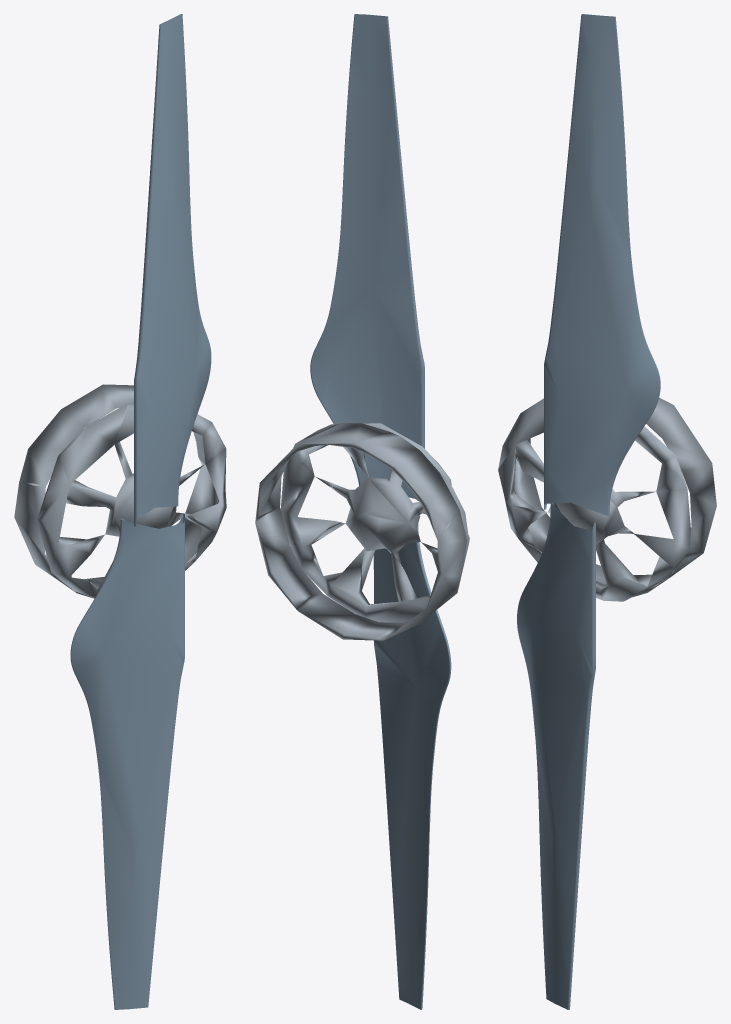
The model's file is px4-x500-rotor-1.glb.
3 renders of one model, left to right at view 1: azimuth 30°, elevation 25°; view 2: azimuth 150°, elevation 25°; view 3: azimuth 330°, elevation 25°, orthographic.
Visible parts, largest first — view 1: rotor_1_visual-0, rotor_1_visual_motor_top-1, rotor_1_visual_motor_top-0; view 2: rotor_1_visual-0, rotor_1_visual_motor_top-0, rotor_1_visual_motor_top-1; view 3: rotor_1_visual-0, rotor_1_visual_motor_top-1, rotor_1_visual_motor_top-0.
Boxes of the visible parts, x1,y1,x2,y2 form: rotor_1_visual-0: [70, 14, 211, 1009]; rotor_1_visual_motor_top-1: [37, 402, 226, 597]; rotor_1_visual_motor_top-0: [14, 384, 218, 598]; rotor_1_visual-0: [310, 14, 451, 1009]; rotor_1_visual_motor_top-0: [255, 423, 466, 640]; rotor_1_visual_motor_top-1: [280, 423, 469, 622]; rotor_1_visual-0: [517, 14, 660, 1009]; rotor_1_visual_motor_top-1: [498, 398, 690, 601]; rotor_1_visual_motor_top-0: [514, 397, 716, 596].
Size of the model in its own units: 0.0593 by 0.2928 by 0.0285.
